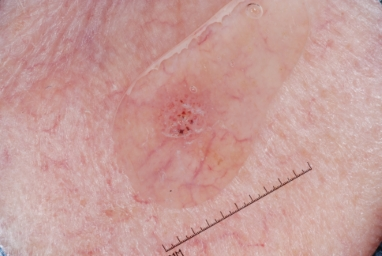seborrheic keratosis: (101, 40, 253, 197)
